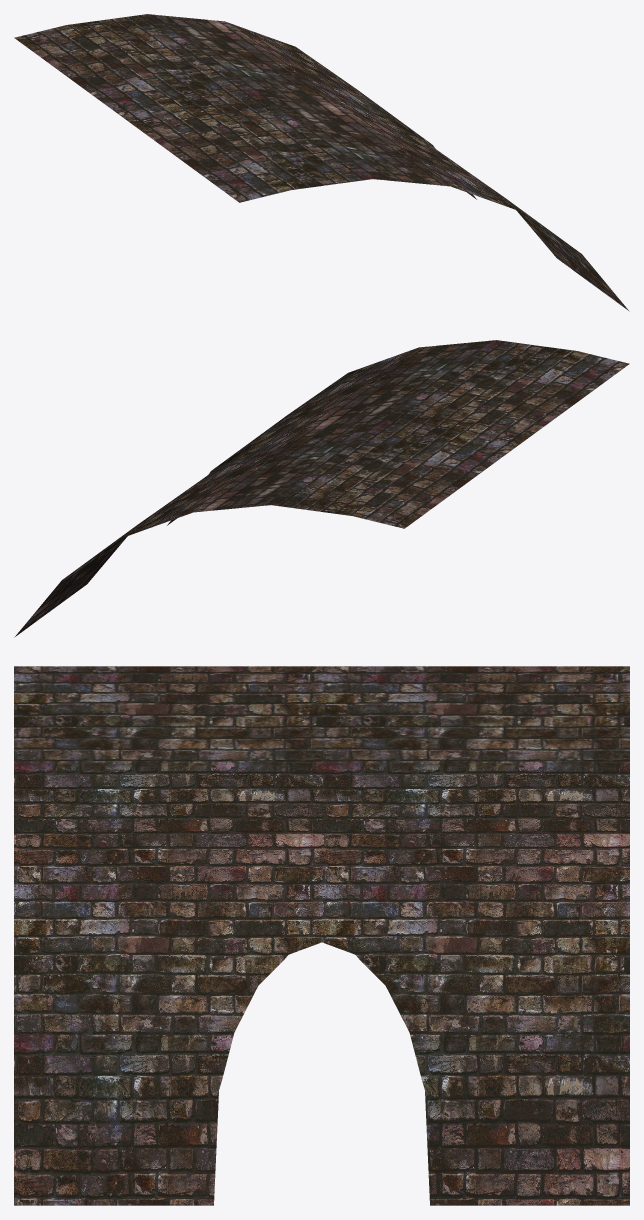
File: ceiling01_tunnel.DAE
3 renders of one model, top to bottom at view 1: azimuth 30°, elevation 25°; view 2: azimuth 150°, elevation 25°; view 3: azimuth 270°, elevation 25°, orthographic. The views are drawn at different scales.
Parts seen in each view (by area): view 1: ceiling_tunnel; view 2: ceiling_tunnel; view 3: ceiling_tunnel.
Part boxes in pixels (x1,y1,x2,y2): ceiling_tunnel: [14, 14, 629, 311]; ceiling_tunnel: [14, 340, 629, 637]; ceiling_tunnel: [14, 666, 629, 1205].
Size of the model in its own units: 4 by 2 by 4.
